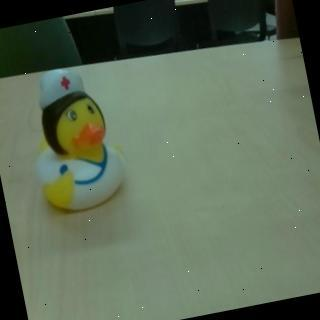duck_specialty: (17, 58, 135, 219)
